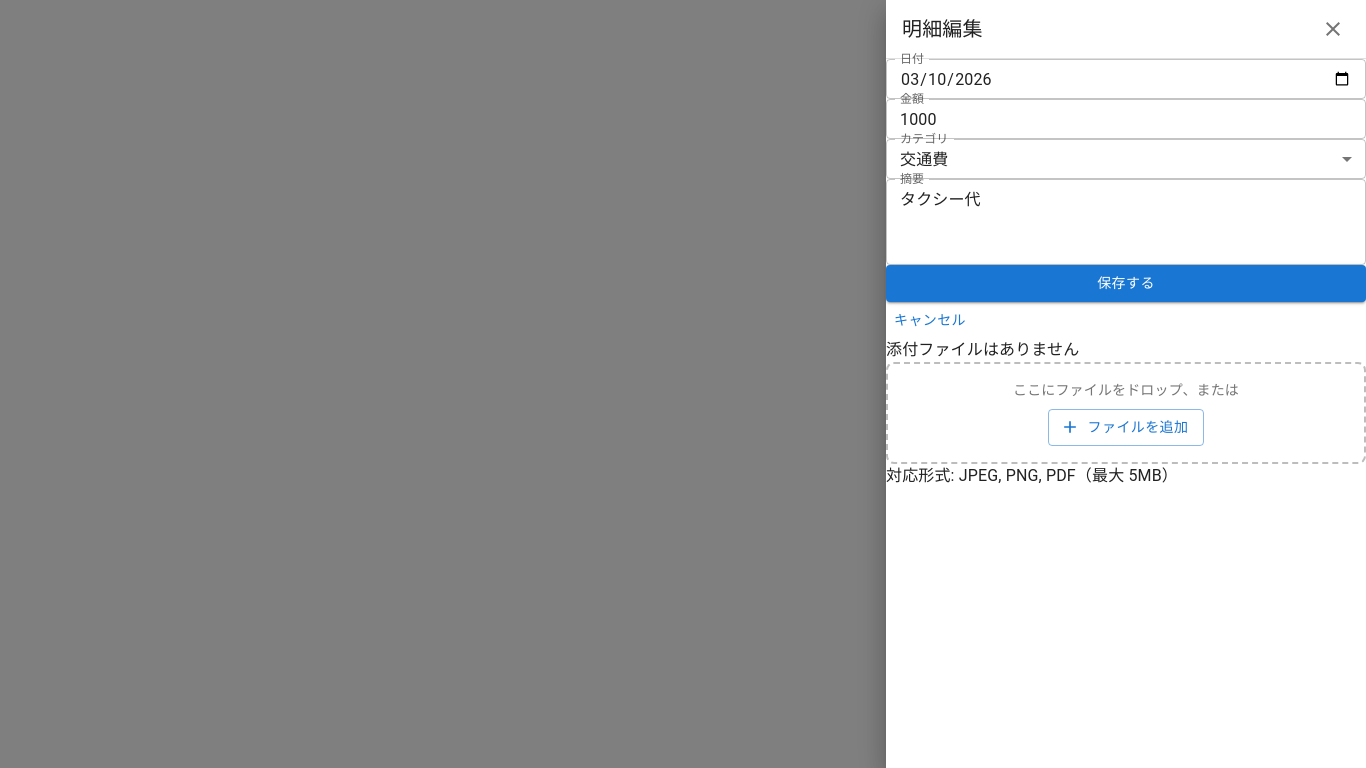
ItemSlidePanel 破棄確認ダイアログ（ATT-FE-064〜071, issue #108） › ATT-FE-064: shows_discard_dialog_on_close_button_when_dirty
金額フィールドを変更して dirty にする。
Replace the text in the number field labelled "金額" with "9999" at (1126, 119), box [886, 99, 1365, 139]
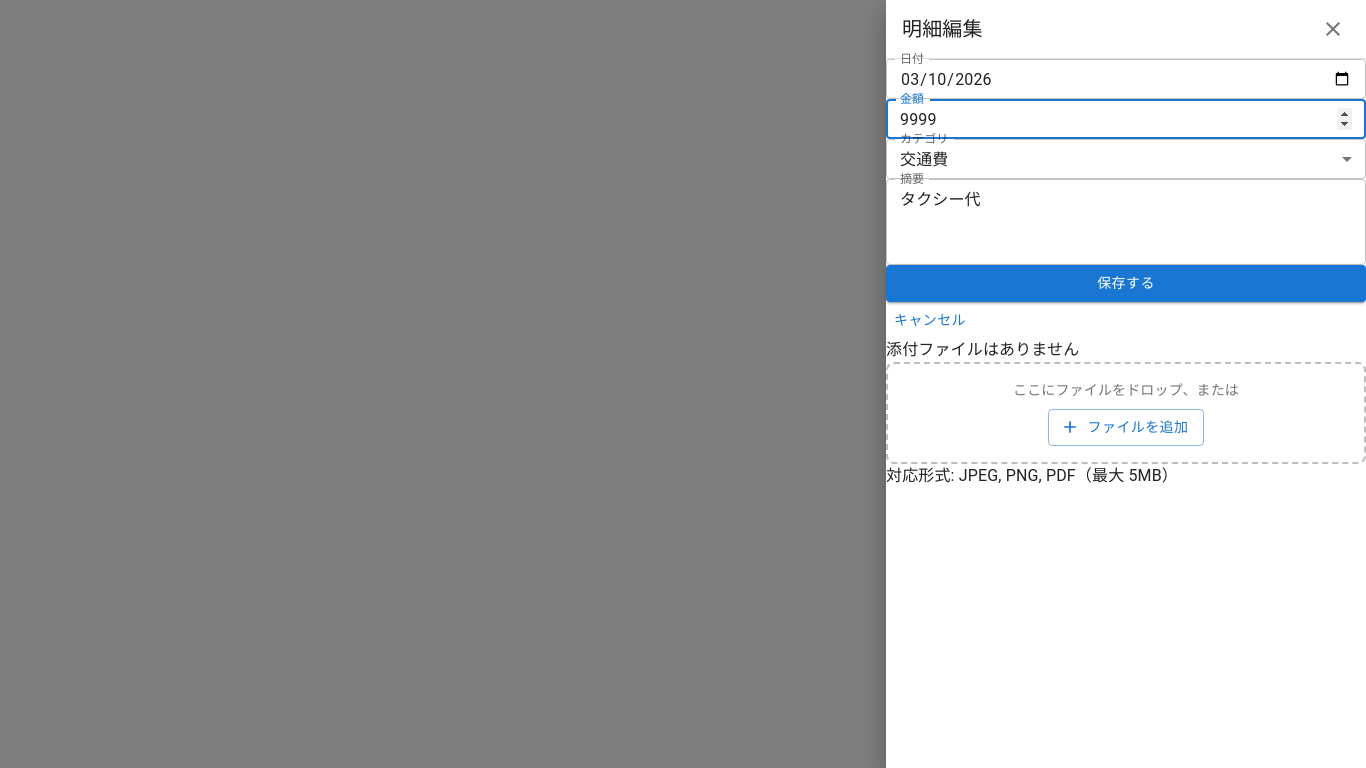
× ボタンをクリックしてもパネルが即閉じず、破棄確認ダイアログが表示される。
Click the button named "閉じる" at (1333, 29), box [1316, 12, 1350, 46]
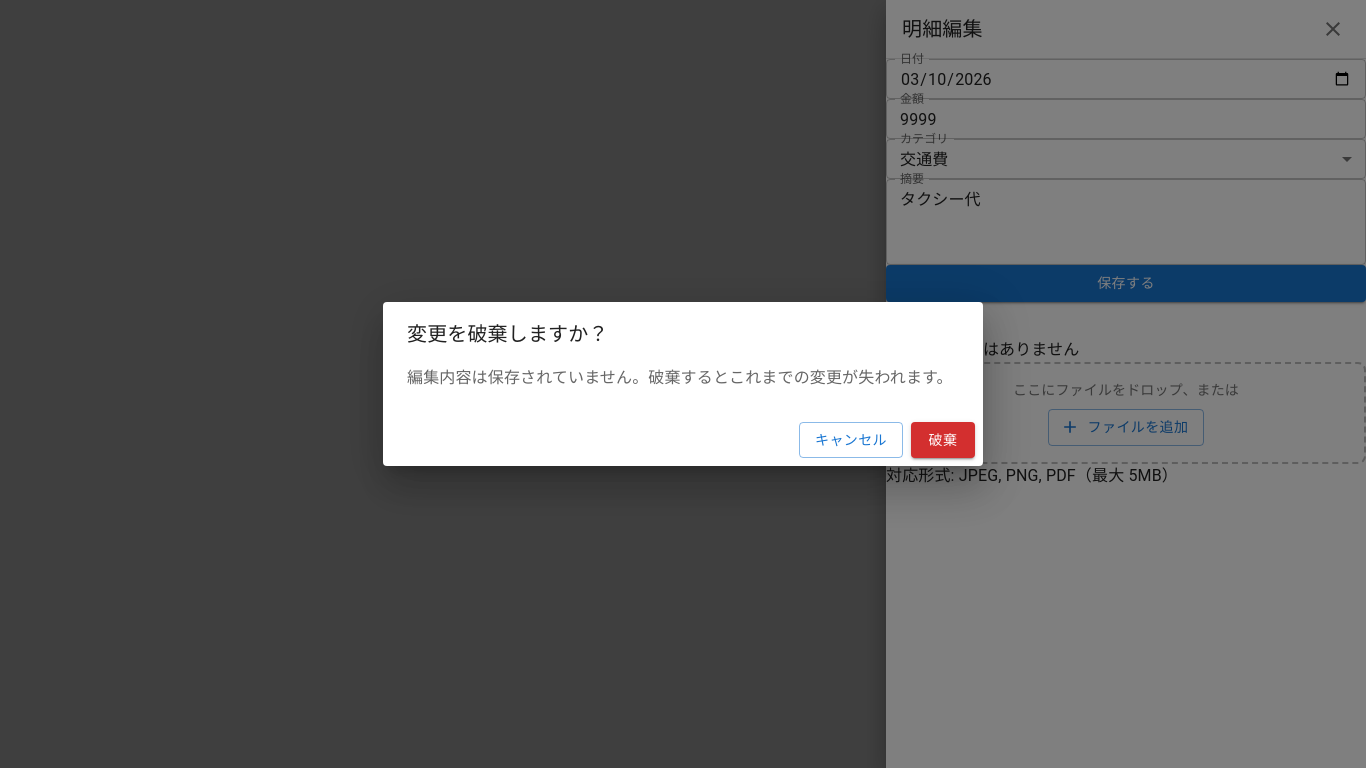
expect the heading "変更を破棄しますか？" is shown: met, box [407, 322, 608, 346]
expect the text "編集内容は保存されていません。破棄するとこれまでの変更が失われます。" is shown: met, box [407, 366, 959, 390]
expect the button "破棄" is shown: met, box [911, 422, 975, 458]
